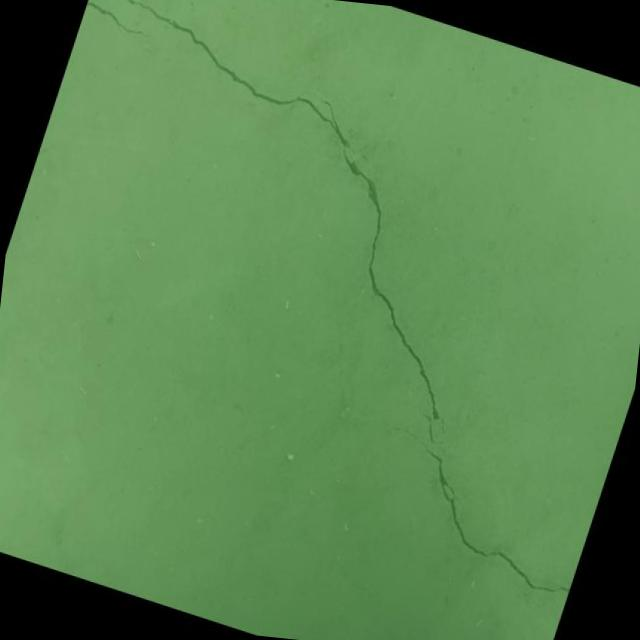crack: (0, 0, 640, 605), (80, 0, 161, 41)
